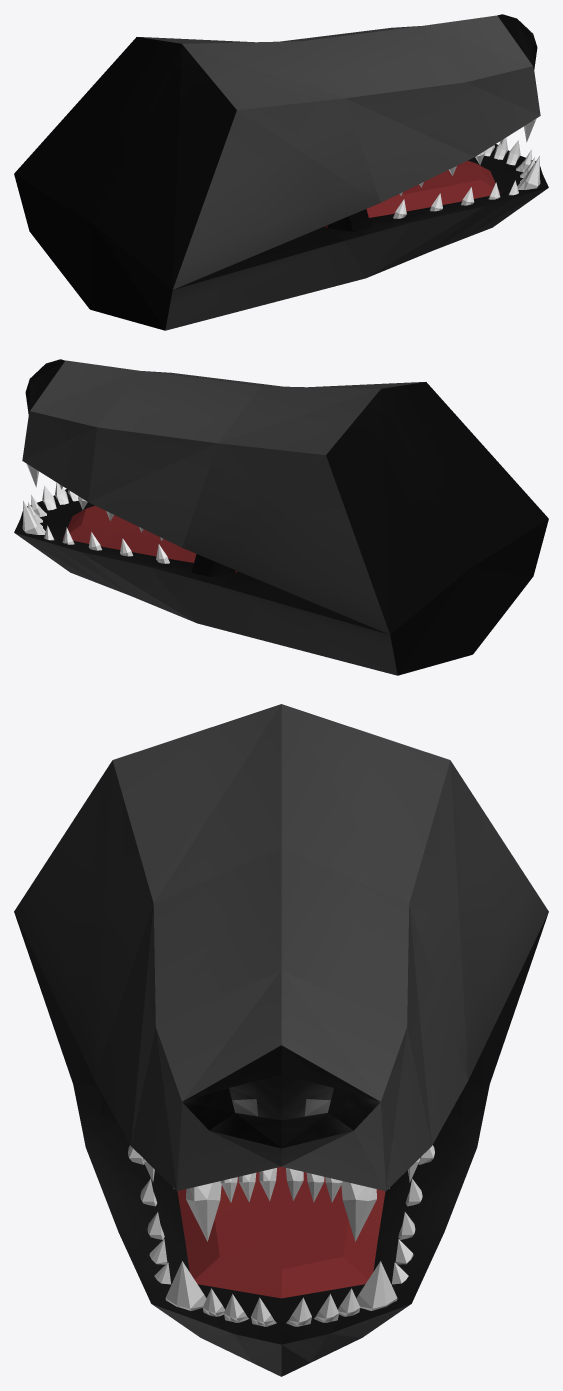
Rendered from WEREWOLF FACE.fbx.
3 views of the same model, one above another, from view 1: azimuth 30°, elevation 25°; view 2: azimuth 150°, elevation 25°; view 3: azimuth 270°, elevation 25° (orthographic). The views are drawn at different scales.
Visible parts, largest first — view 1: WEREWOLF_FACE; view 2: WEREWOLF_FACE; view 3: WEREWOLF_FACE.
Part boxes in pixels (bbox=[...]): WEREWOLF_FACE: bbox=[14, 14, 548, 330]; WEREWOLF_FACE: bbox=[14, 359, 548, 675]; WEREWOLF_FACE: bbox=[14, 704, 548, 1376].
Size of the model in its own units: 21.04 by 11.25 by 12.88.
